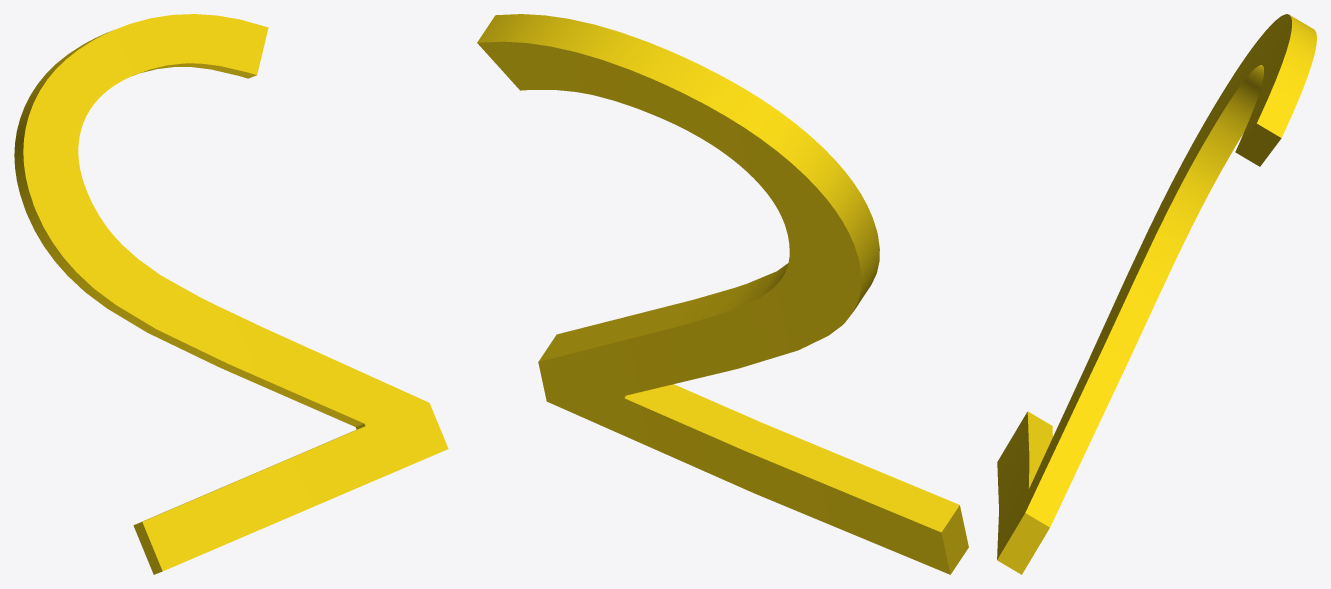
File: Number_2.gltf
3 renders of one model, left to right at view 1: azimuth 30°, elevation 25°; view 2: azimuth 150°, elevation 25°; view 3: azimuth 270°, elevation 25°, orthographic. The views are drawn at different scales.
Parts seen in each view (by area): view 1: Sub_8_Cell_1_1_Number_2; view 2: Sub_8_Cell_1_1_Number_2; view 3: Sub_8_Cell_1_1_Number_2.
Part boxes in pixels (x1,y1,x2,y2): Sub_8_Cell_1_1_Number_2: [14, 14, 448, 574]; Sub_8_Cell_1_1_Number_2: [477, 14, 968, 574]; Sub_8_Cell_1_1_Number_2: [997, 14, 1316, 574].
Size of the model in its own units: 0.0183 by 0.0241 by 0.0139.
